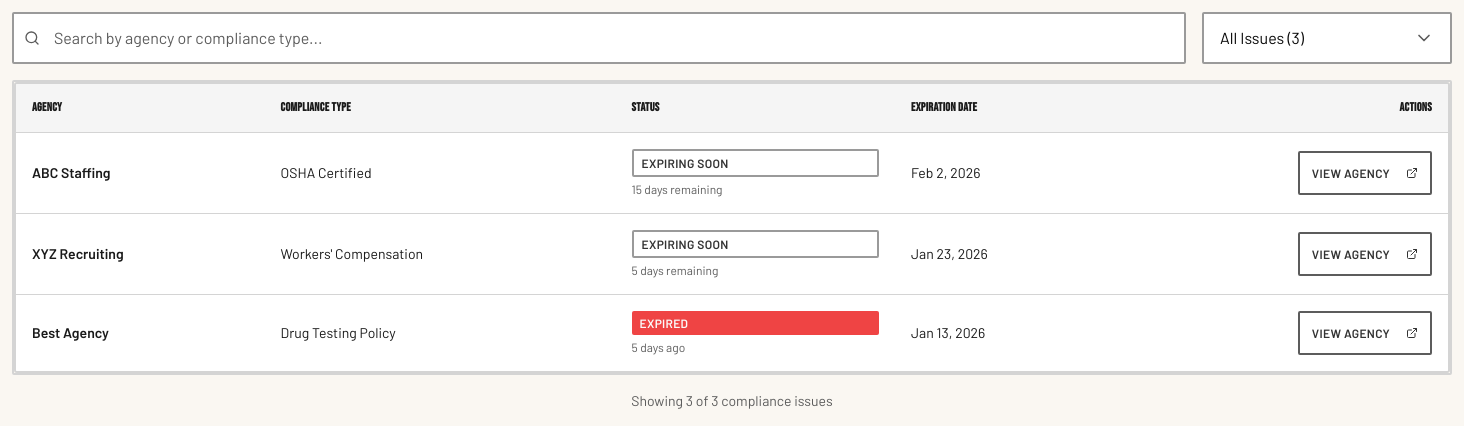
Test case: ComplianceOverviewTable › Search Functionality › should filter by compliance type
Step 1. Type "Workers" into the field with placeholder "Search by agency or compliance type..." → (599, 38), box [12, 12, 1186, 64]
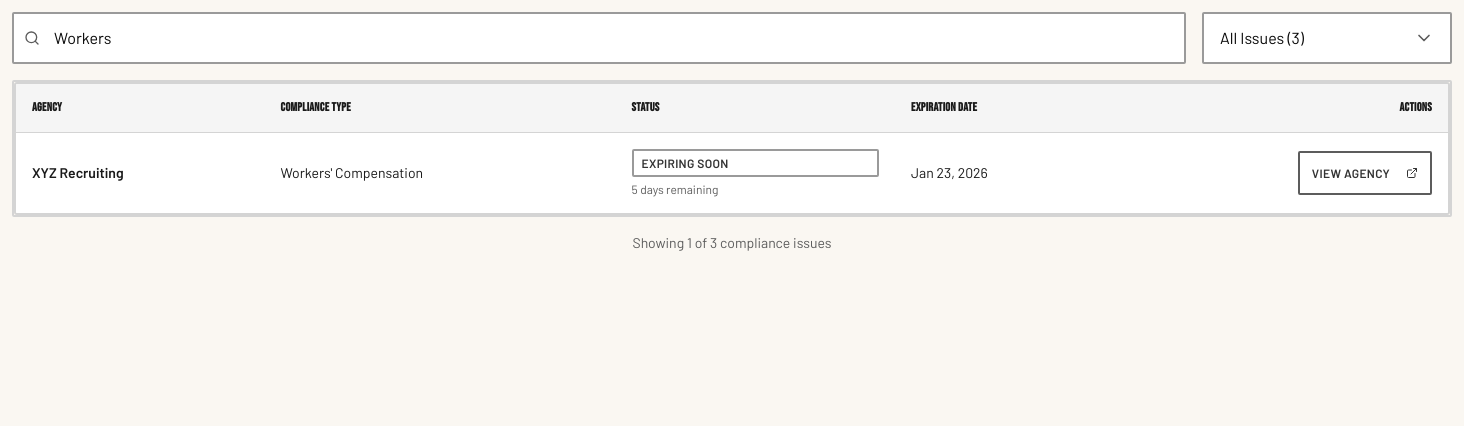
Check: the text "XYZ Recruiting" is shown, box [16, 132, 264, 212]
Check: the text "ABC Staffing" is gone
Check: the text "Best Agency" is gone
